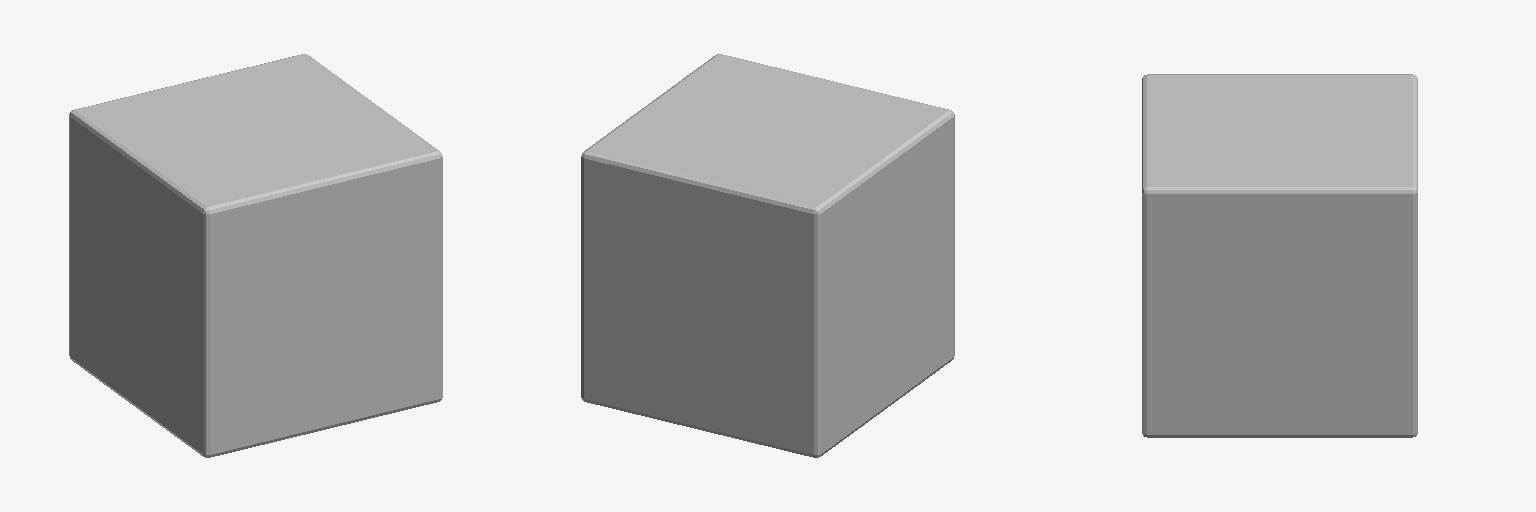
Rendered from rounded_box.obj.
3 renders of one model, left to right at view 1: azimuth 30°, elevation 25°; view 2: azimuth 150°, elevation 25°; view 3: azimuth 270°, elevation 25°, orthographic.
Visible parts, largest first — view 1: Cube; view 2: Cube; view 3: Cube.
Boxes of the visible parts, x1,y1,x2,y2 form: Cube: [69, 54, 442, 457]; Cube: [581, 54, 954, 457]; Cube: [1142, 74, 1417, 437].
Size of the model in its own units: 2 by 2 by 2.